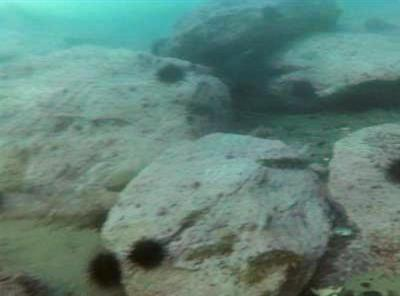urchin: (128, 236, 171, 274), (85, 249, 128, 285), (156, 62, 186, 87)
